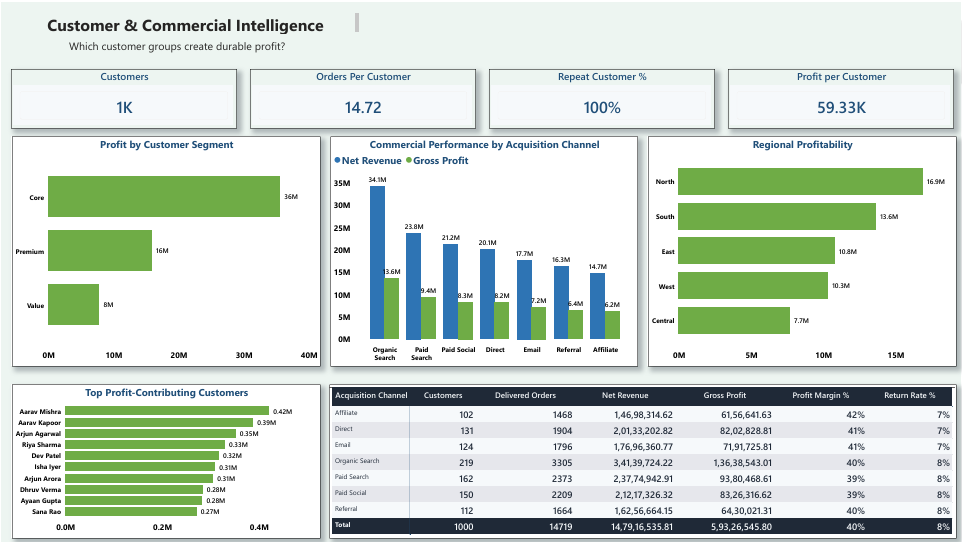

The page's visual inventory and layout, read from the dashboard file:
{"tool":"powerbi","page":{"name":"Customer & Commercial Intelligence","canvas":[1920,1080],"ordinal":3},"visuals":[{"type":"textbox","box":[20.5,16,700.9,50.2],"z":0},{"type":"cardVisual","title":"Customers","fields":{"Data":["ProfitTrace Measures.Customers"]},"box":[18.3,132.4,452,118.7],"z":1000},{"type":"cardVisual","title":"Profit per Order","fields":{"Data":["ProfitTrace Measures.Profit per Order"]},"box":[974.1,132.4,452,118.7],"z":2000},{"type":"cardVisual","title":"Orders Per Customer","fields":{"Data":["ProfitTrace Measures.Orders per Customer"]},"box":[496.2,132.4,452,118.7],"z":3000},{"type":"cardVisual","title":"Profit per Customer","fields":{"Data":["ProfitTrace Measures.Profit per Customer"]},"box":[1452,132.4,452,118.7],"z":4000},{"type":"clusteredBarChart","title":"Profit by Customer Segment","fields":{"Category":["DimCustomer.customer_segment"],"Y":["ProfitTrace Measures.Gross Profit"]},"box":[19.8,266.7,617.1,460.7],"z":5000},{"type":"textbox","box":[0,66.2,700.9,50.2],"z":6000},{"type":"clusteredColumnChart","title":"Commercial Performance by Acquisition Channel","fields":{"Category":["DimCustomer.acquisition_channel"],"Y":["ProfitTrace Measures.Net Revenue","ProfitTrace Measures.Gross Profit"]},"box":[656.8,266.7,614.9,460.7],"z":7000},{"type":"clusteredBarChart","title":"Regional Profitability","fields":{"Category":["DimCustomer.region"],"Y":["ProfitTrace Measures.Gross Profit"]},"box":[1291.6,266.7,617.1,460.7],"z":8000},{"type":"clusteredBarChart","title":"Top Profit-Contributing Customers","fields":{"Category":["DimCustomer.customer_name"],"Y":["ProfitTrace Measures.Gross Profit"]},"box":[19.8,762.6,617.1,308.6],"z":9000},{"type":"pivotTable","fields":{"Rows":["DimCustomer.acquisition_channel"],"Values":["ProfitTrace Measures.Customers","ProfitTrace Measures.Delivered Orders","ProfitTrace Measures.Net Revenue","ProfitTrace Measures.Gross Profit","ProfitTrace Measures.Profit Margin %","ProfitTrace Measures.Return Rate %"]},"box":[654.6,762.6,1254.1,308.6],"z":10000}]}

Visuals, with their boxes in screenshot pixels (x1, y1, x2, y2), scaled from the page's 1920x1080 canvas onto the 965x542 screenshot:
textbox: locate(10, 8, 363, 33)
"Customers" cardVisual: locate(9, 66, 236, 126)
"Profit per Order" cardVisual: locate(490, 66, 717, 126)
"Orders Per Customer" cardVisual: locate(249, 66, 477, 126)
"Profit per Customer" cardVisual: locate(730, 66, 957, 126)
"Profit by Customer Segment" clusteredBarChart: locate(10, 134, 320, 365)
textbox: locate(0, 33, 352, 58)
"Commercial Performance by Acquisition Channel" clusteredColumnChart: locate(330, 134, 639, 365)
"Regional Profitability" clusteredBarChart: locate(649, 134, 959, 365)
"Top Profit-Contributing Customers" clusteredBarChart: locate(10, 383, 320, 538)
pivotTable - DimCustomer.acquisition_channel x ProfitTrace Measures.Customers: locate(329, 383, 959, 538)
